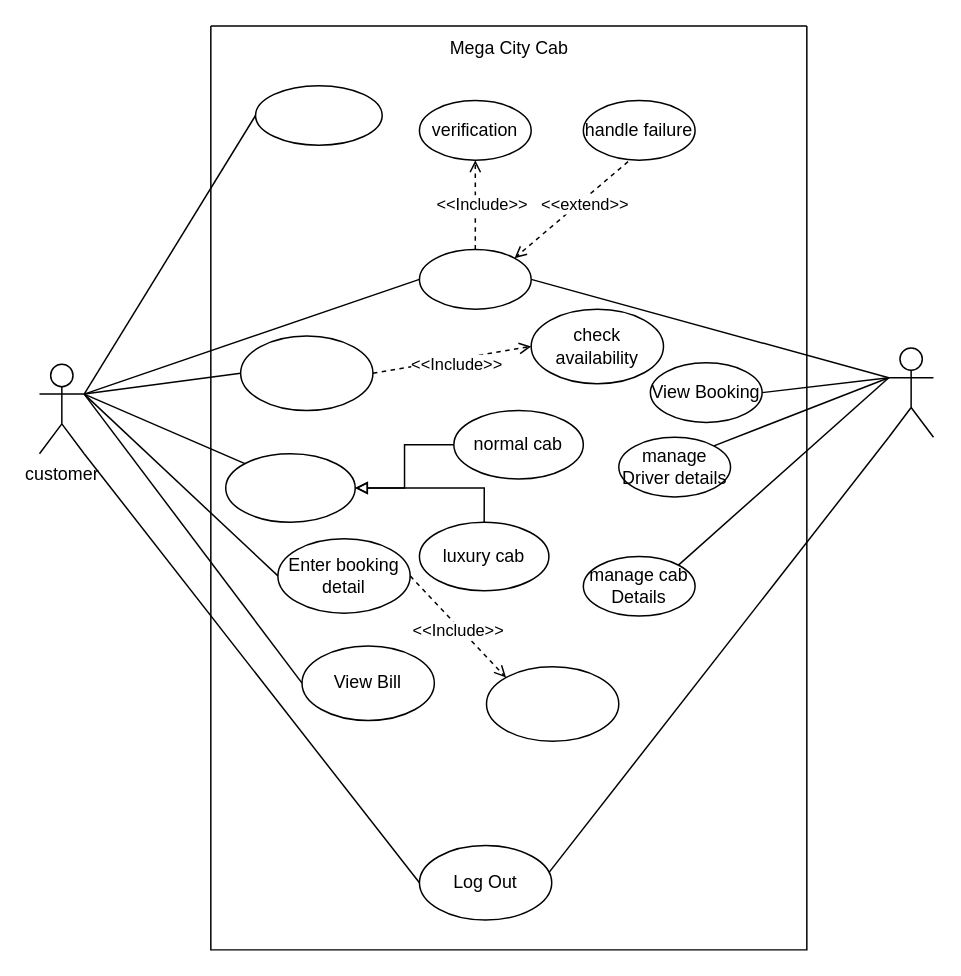
Some shapes in this 961 by 976 pixel diagram are drawn without their labels. Here are the shapes that lost their labels. From the top down, the centre of each, then its label:
At point (318, 114): "Register".
At point (474, 278): "Login".
At point (306, 372): "Select Driver".
At point (910, 391): "admin".
At point (289, 487): "Select Cab Type".
At point (552, 703): "Generate Bill".
